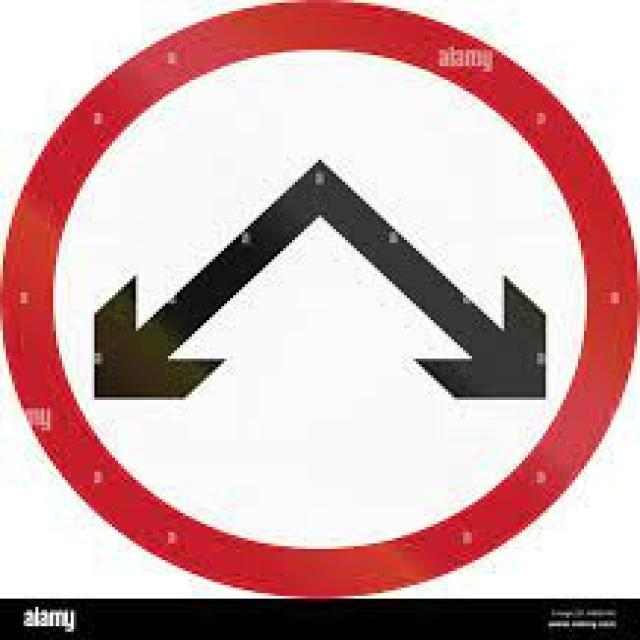pass either side: (23, 19, 619, 579)
